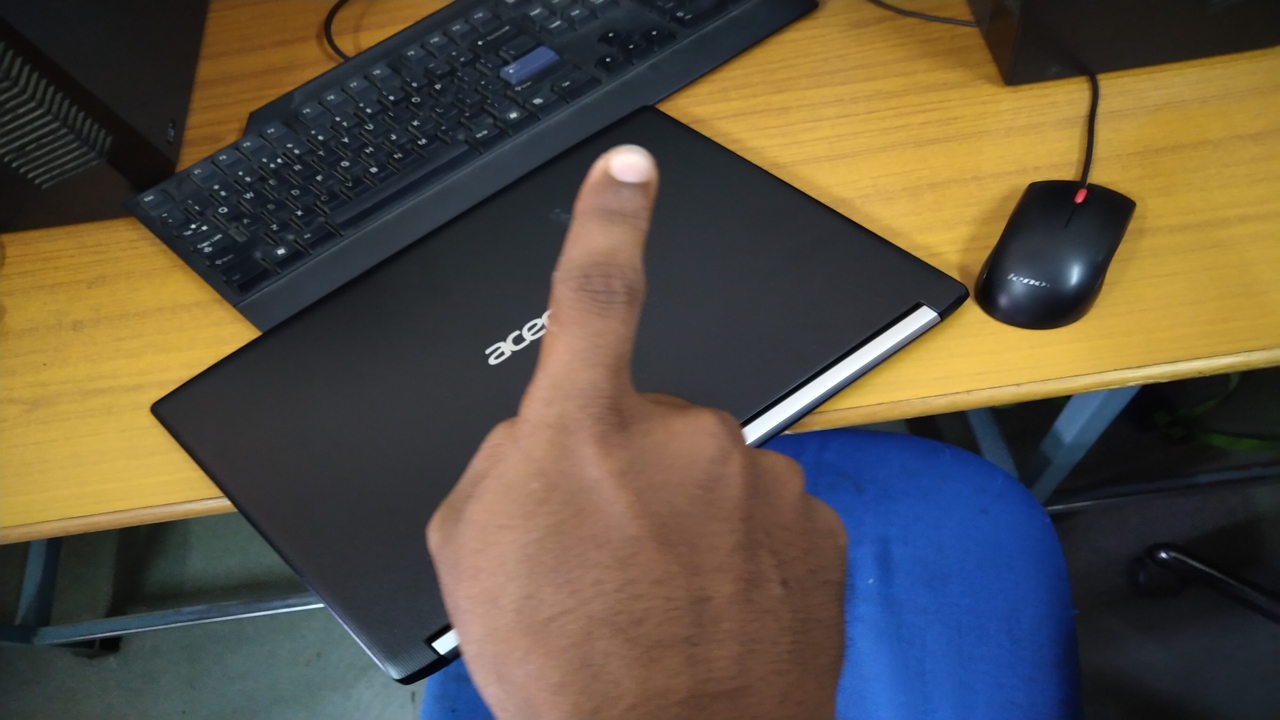fingertip: (580, 132, 666, 206)
